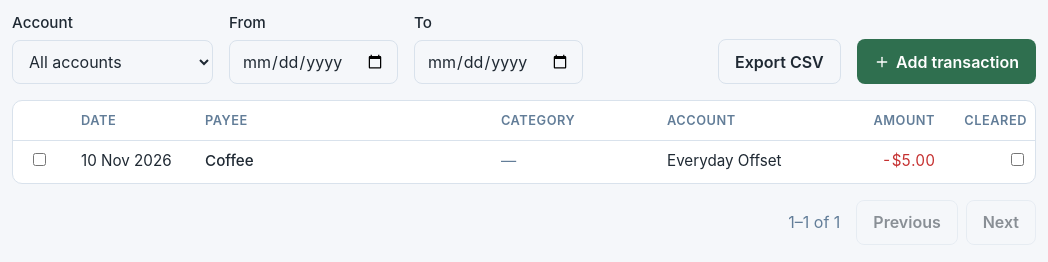
Test: TransactionsPage › the cleared checkbox toggles without opening the editor
Click the checkbox named "Cleared: Coffee" at (1018, 160), box top-left (1011, 153), bottom-right (1024, 166)
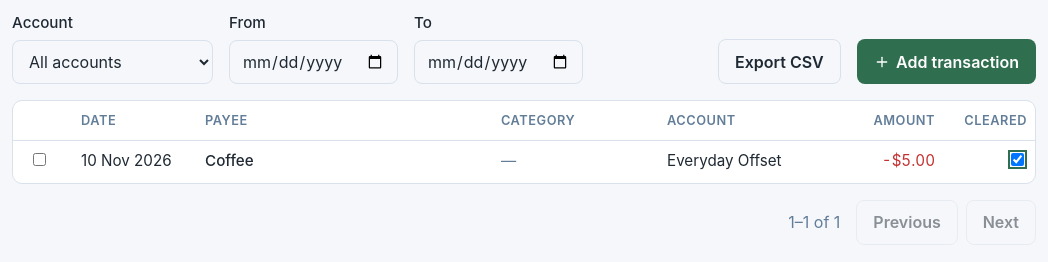
Expected: the checkbox named "Cleared: Coffee" is checked, top-left (1011, 153), bottom-right (1024, 166)
